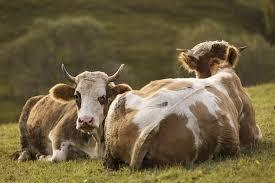cow: (98, 40, 264, 171), (14, 62, 135, 164)
